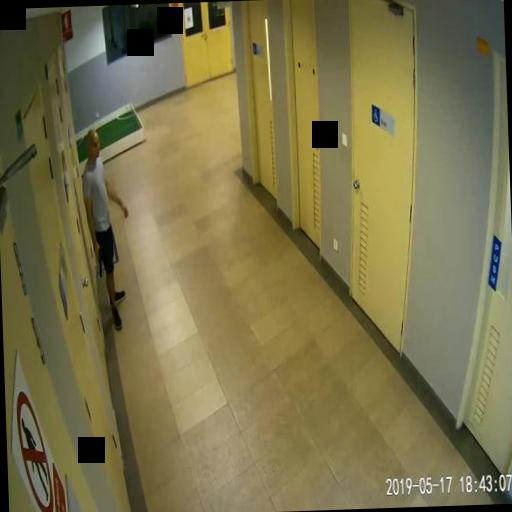Handgun: (92, 242, 102, 276)
